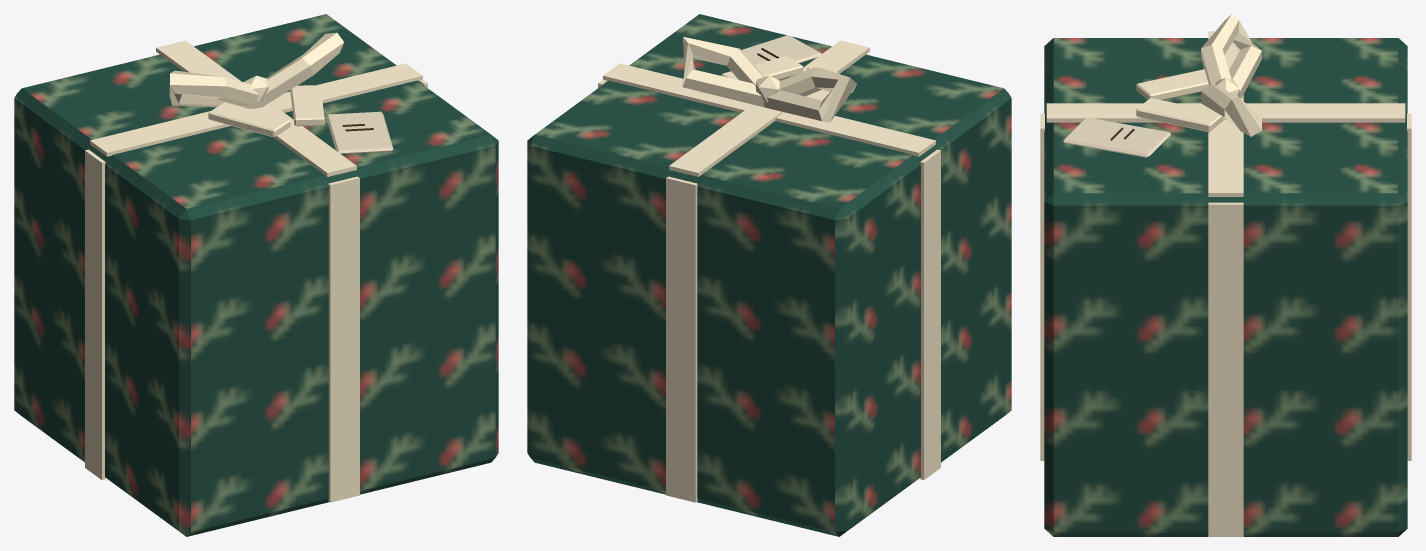
Rendered from parcel_sprig.glb.
The picture shows the model from 3 angles, left to right: view 1: azimuth 30°, elevation 25°; view 2: azimuth 150°, elevation 25°; view 3: azimuth 270°, elevation 25°; orthographic projection. The views are drawn at different scales.
Parts seen in each view (by area): view 1: parcel_sprig; view 2: parcel_sprig; view 3: parcel_sprig.
Boxes of the visible parts, bbox=[...] form: parcel_sprig: bbox=[14, 14, 498, 536]; parcel_sprig: bbox=[527, 14, 1011, 536]; parcel_sprig: bbox=[1040, 14, 1411, 536].
Size of the model in its own units: 0.255 by 0.2871 by 0.24.
Materials: 4 (1 with a texture image).
